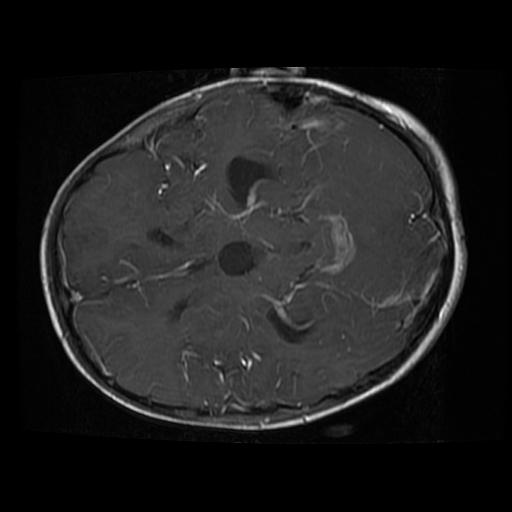glioma: (223, 152, 281, 208)
